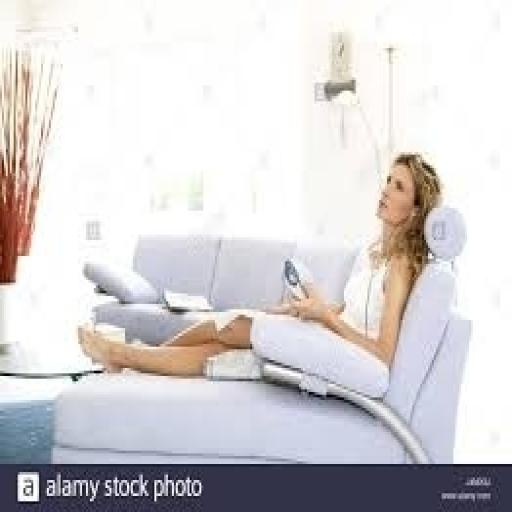sitting: (76, 150, 444, 382)
